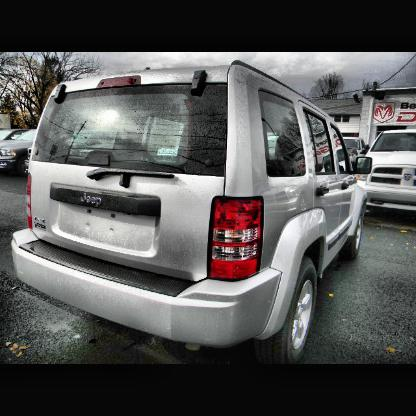Jeep Liberty SUV 2012: (10, 60, 375, 364)
